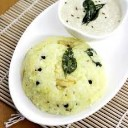venpongal: (22, 37, 105, 112)
